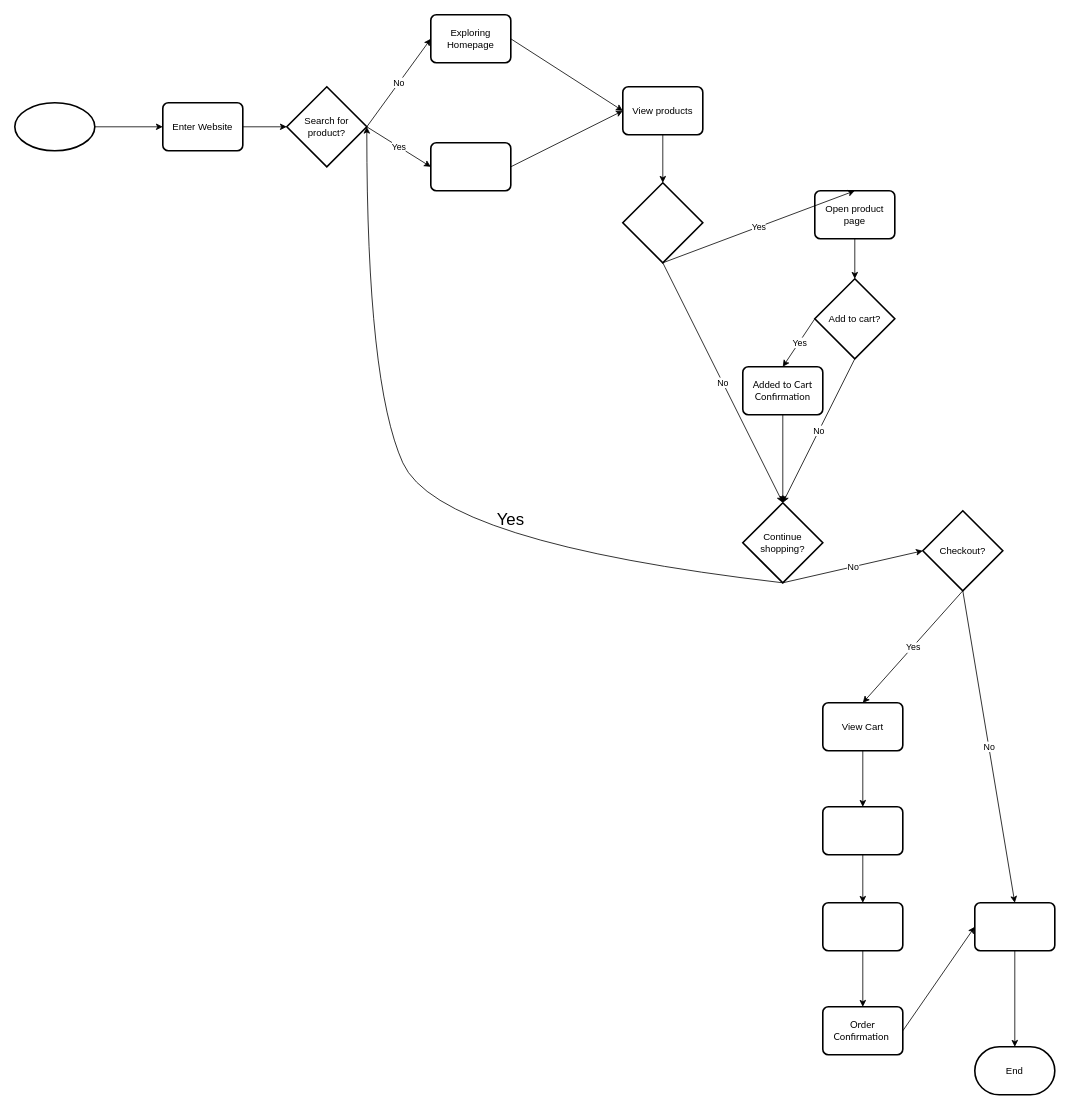
Some shapes in this 1069 by 1109 pixel diagram are drawn without their labels. Here are the shapes that lost their labels. From the top down, the centre of each, then its label:
the point at 54,126: Start
the point at 470,166: Enter Search
the point at 662,222: Select a product?
the point at 862,830: View Payment
the point at 862,926: Input Payment Information
the point at 1014,926: Leave website
